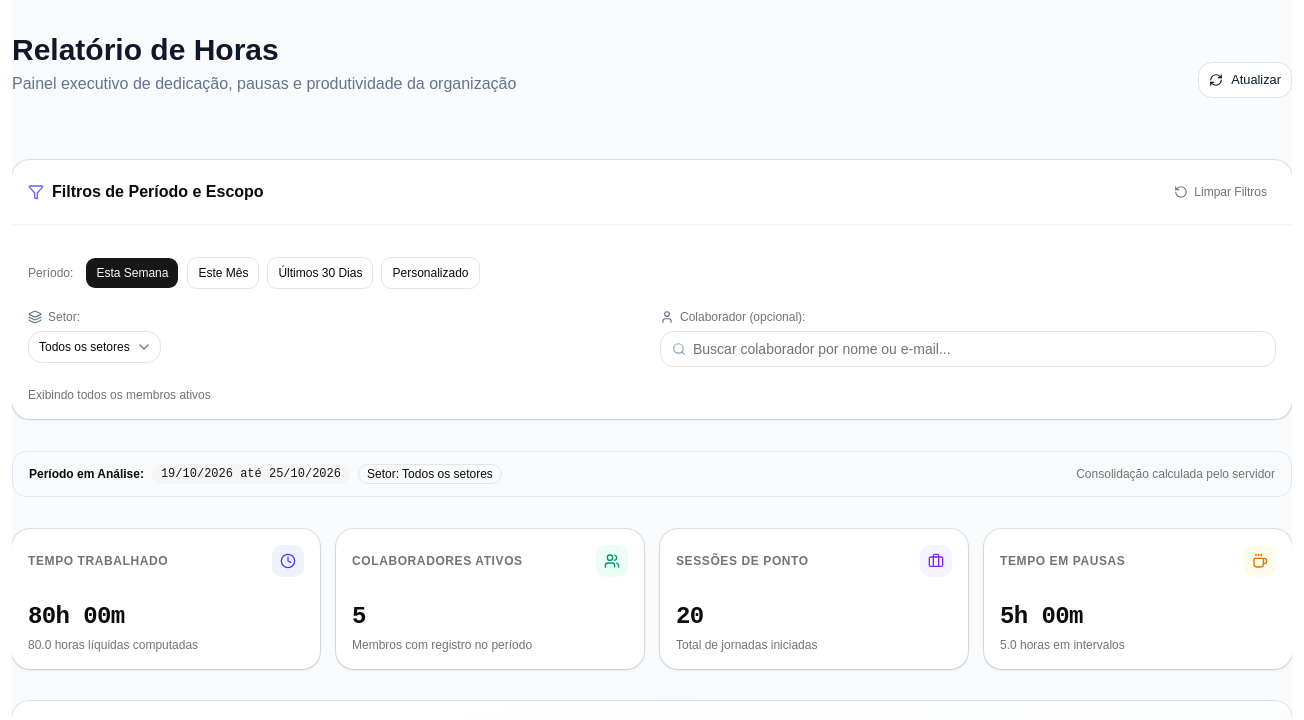
Test case: HourReport Admin Page (Metrics Summary & Users Breakdown) › deve exibir mensagem de estado vazio no dropdown quando a busca não encontrar ninguém
Expected: the text "80h 00m" is shown, [28,603,125,630]
Type "Inexistente XYZ" into the dropdown with test id "collaborator-autocomplete-input".
click(968, 349); type("Inexistente XYZ")  # box [660,331,1276,367]
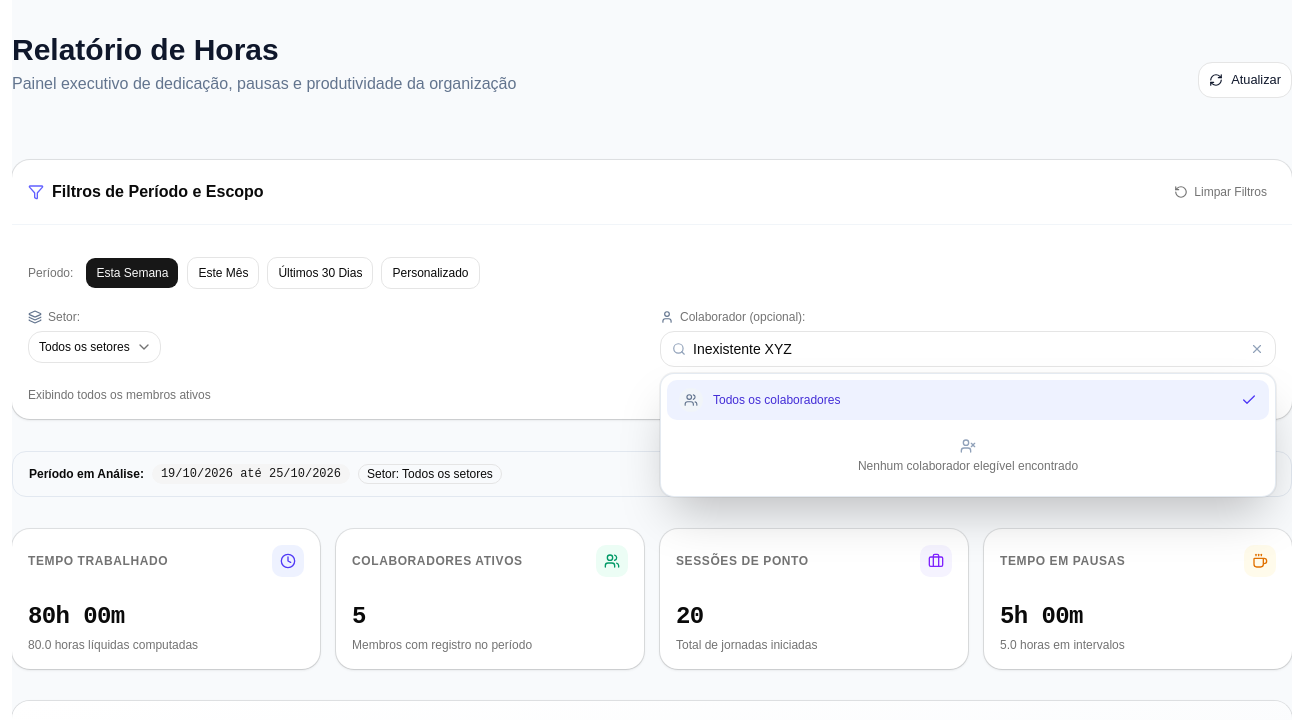
Result: the element with test id "collaborator-no-results" is shown at [858,438,1078,473]
Result: the text "Nenhum colaborador elegível encontrado" is shown at [858,459,1078,473]
